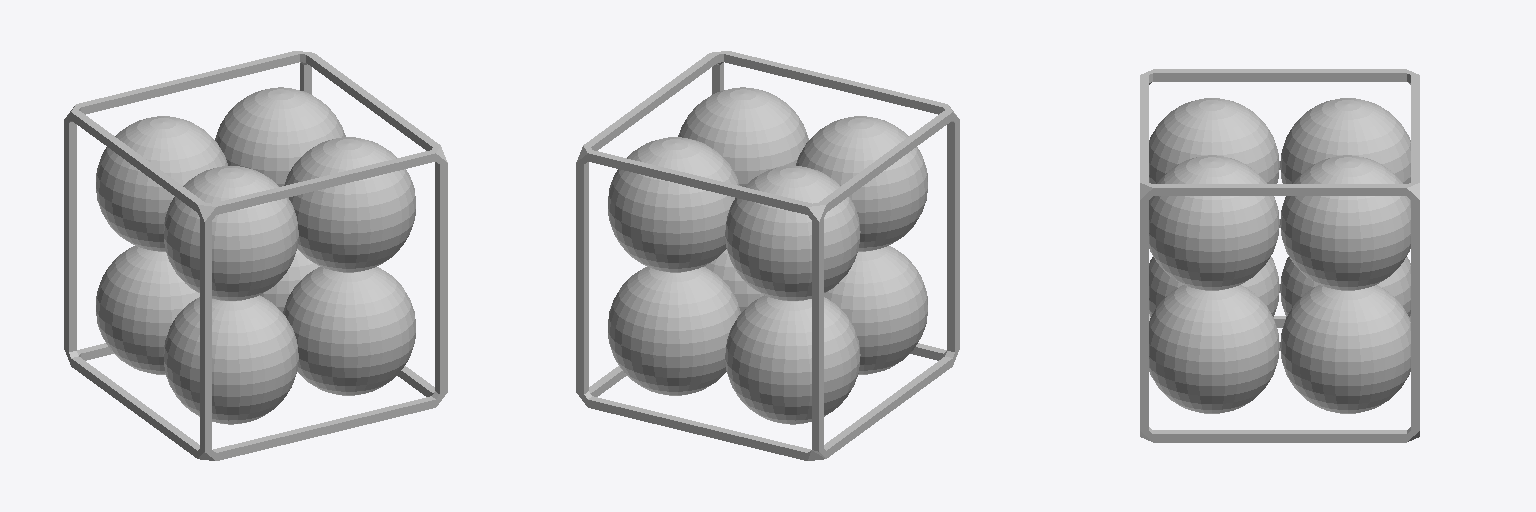
The model's file is stage_7.obj.
3 views of the same model, side by side, from view 1: azimuth 30°, elevation 25°; view 2: azimuth 150°, elevation 25°; view 3: azimuth 270°, elevation 25° (orthographic).
Parts seen in each view (by area): view 1: Cube_Cube.002, Sphere.005_Sphere.007, Sphere.004_Sphere.006, Sphere.007_Sphere.010, Sphere.006_Sphere.009, Sphere.002_Sphere.003, Sphere, Sphere.003_Sphere.004, Sphere.001; view 2: Cube_Cube.002, Sphere.001, Sphere, Sphere.003_Sphere.004, Sphere.002_Sphere.003, Sphere.006_Sphere.009, Sphere.004_Sphere.006, Sphere.007_Sphere.010, Sphere.005_Sphere.007; view 3: Cube_Cube.002, Sphere.001, Sphere.005_Sphere.007, Sphere.003_Sphere.004, Sphere.007_Sphere.010, Sphere.002_Sphere.003, Sphere.006_Sphere.009, Sphere, Sphere.004_Sphere.006.
Part boxes in pixels (bbox=[...]): Cube_Cube.002: bbox=[64, 51, 447, 460]; Sphere.005_Sphere.007: bbox=[283, 267, 415, 395]; Sphere.004_Sphere.006: bbox=[163, 295, 298, 424]; Sphere.007_Sphere.010: bbox=[284, 137, 415, 272]; Sphere.006_Sphere.009: bbox=[163, 166, 298, 300]; Sphere.002_Sphere.003: bbox=[96, 116, 227, 251]; Sphere: bbox=[96, 246, 199, 374]; Sphere.003_Sphere.004: bbox=[215, 87, 345, 186]; Sphere.001: bbox=[260, 249, 319, 312]; Cube_Cube.002: bbox=[576, 51, 959, 460]; Sphere.001: bbox=[608, 267, 740, 395]; Sphere: bbox=[725, 295, 860, 424]; Sphere.003_Sphere.004: bbox=[608, 137, 739, 272]; Sphere.002_Sphere.003: bbox=[725, 166, 860, 300]; Sphere.006_Sphere.009: bbox=[796, 116, 927, 251]; Sphere.004_Sphere.006: bbox=[824, 246, 927, 374]; Sphere.007_Sphere.010: bbox=[678, 87, 808, 186]; Sphere.005_Sphere.007: bbox=[704, 249, 763, 312]; Cube_Cube.002: bbox=[1140, 69, 1419, 442]; Sphere.001: bbox=[1280, 285, 1410, 413]; Sphere.005_Sphere.007: bbox=[1149, 285, 1279, 413]; Sphere.003_Sphere.004: bbox=[1280, 155, 1410, 290]; Sphere.007_Sphere.010: bbox=[1149, 155, 1279, 290]; Sphere.002_Sphere.003: bbox=[1280, 98, 1410, 183]; Sphere.006_Sphere.009: bbox=[1149, 98, 1279, 183]; Sphere: bbox=[1280, 257, 1410, 316]; Sphere.004_Sphere.006: bbox=[1149, 257, 1279, 316].
Bounding box in the file's own units: 1.03 × 1.03 × 1.03.